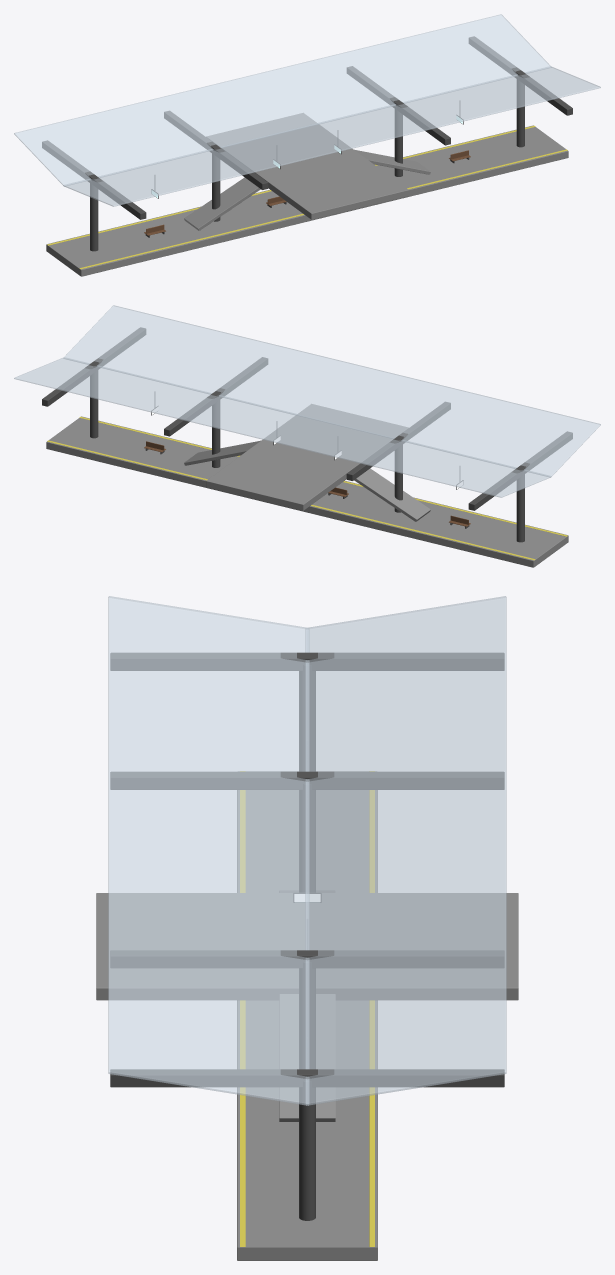
File: Large Passenger Terminal.fbx
3 renders of one model, top to bottom at view 1: azimuth 30°, elevation 25°; view 2: azimuth 150°, elevation 25°; view 3: azimuth 270°, elevation 25°, orthographic. The views are drawn at different scales.
Parts seen in each view (by area): view 1: Canopy_Glass_L, Canopy_Glass_R, Platform_Main, Concourse_Bridge, Access_Ramp_R, Roof_Truss_Main_1, Roof_Truss_Main_2, Roof_Truss_Main_3, Roof_Truss_Main_4, Tactile_Strip_R, Access_Ramp_F, Tactile_Strip_L (+4 smaller); view 2: Canopy_Glass_R, Canopy_Glass_L, Platform_Main, Concourse_Bridge, Access_Ramp_R, Roof_Truss_Main_1, Roof_Truss_Main_2, Roof_Truss_Main_3, Roof_Truss_Main_4, Tactile_Strip_L, Access_Ramp_F, Tactile_Strip_R (+4 smaller); view 3: Canopy_Glass_L, Canopy_Glass_R, Concourse_Bridge, Platform_Main, Roof_Truss_Main_4, Roof_Truss_Main_1, Roof_Truss_Main_2, Roof_Truss_Main_3, Access_Ramp_F, Support_Pillar_4, Tactile_Strip_L, Tactile_Strip_R (+3 smaller).
Part boxes in pixels (x1=…): Canopy_Glass_L: x1=14, y1=14, x2=551, y2=186; Canopy_Glass_R: x1=63, y1=66, x2=600, y2=206; Platform_Main: x1=46, y1=125, x2=568, y2=276; Concourse_Bridge: x1=206, y1=113, x2=408, y2=219; Access_Ramp_R: x1=184, y1=177, x2=260, y2=230; Roof_Truss_Main_1: x1=42, y1=140, x2=146, y2=219; Roof_Truss_Main_2: x1=164, y1=111, x2=268, y2=189; Roof_Truss_Main_3: x1=347, y1=66, x2=450, y2=145; Roof_Truss_Main_4: x1=469, y1=36, x2=572, y2=115; Tactile_Strip_R: x1=79, y1=149, x2=567, y2=269; Access_Ramp_F: x1=354, y1=149, x2=430, y2=174; Tactile_Strip_L: x1=47, y1=125, x2=535, y2=245; Canopy_Glass_R: x1=63, y1=305, x2=600, y2=477; Canopy_Glass_L: x1=14, y1=357, x2=551, y2=497; Platform_Main: x1=46, y1=416, x2=568, y2=567; Concourse_Bridge: x1=206, y1=404, x2=408, y2=510; Access_Ramp_R: x1=354, y1=468, x2=430, y2=521; Roof_Truss_Main_1: x1=468, y1=431, x2=572, y2=510; Roof_Truss_Main_2: x1=346, y1=402, x2=450, y2=480; Roof_Truss_Main_3: x1=164, y1=357, x2=267, y2=436; Roof_Truss_Main_4: x1=42, y1=327, x2=145, y2=406; Tactile_Strip_L: x1=47, y1=440, x2=535, y2=560; Access_Ramp_F: x1=184, y1=440, x2=260, y2=465; Tactile_Strip_R: x1=79, y1=416, x2=567, y2=536; Canopy_Glass_L: x1=305, y1=596, x2=506, y2=1105; Canopy_Glass_R: x1=108, y1=596, x2=309, y2=1105; Concourse_Bridge: x1=96, y1=893, x2=518, y2=1000; Platform_Main: x1=237, y1=790, x2=377, y2=1260; Roof_Truss_Main_4: x1=110, y1=1069, x2=504, y2=1087; Roof_Truss_Main_1: x1=110, y1=652, x2=504, y2=670; Roof_Truss_Main_2: x1=110, y1=771, x2=504, y2=789; Roof_Truss_Main_3: x1=110, y1=950, x2=504, y2=967; Access_Ramp_F: x1=279, y1=994, x2=335, y2=1121; Support_Pillar_4: x1=299, y1=1081, x2=315, y2=1220; Tactile_Strip_L: x1=369, y1=771, x2=374, y2=1246; Tactile_Strip_R: x1=240, y1=771, x2=245, y2=1246.
Size of the model in its own units: 8000 by 1485 by 3000.
